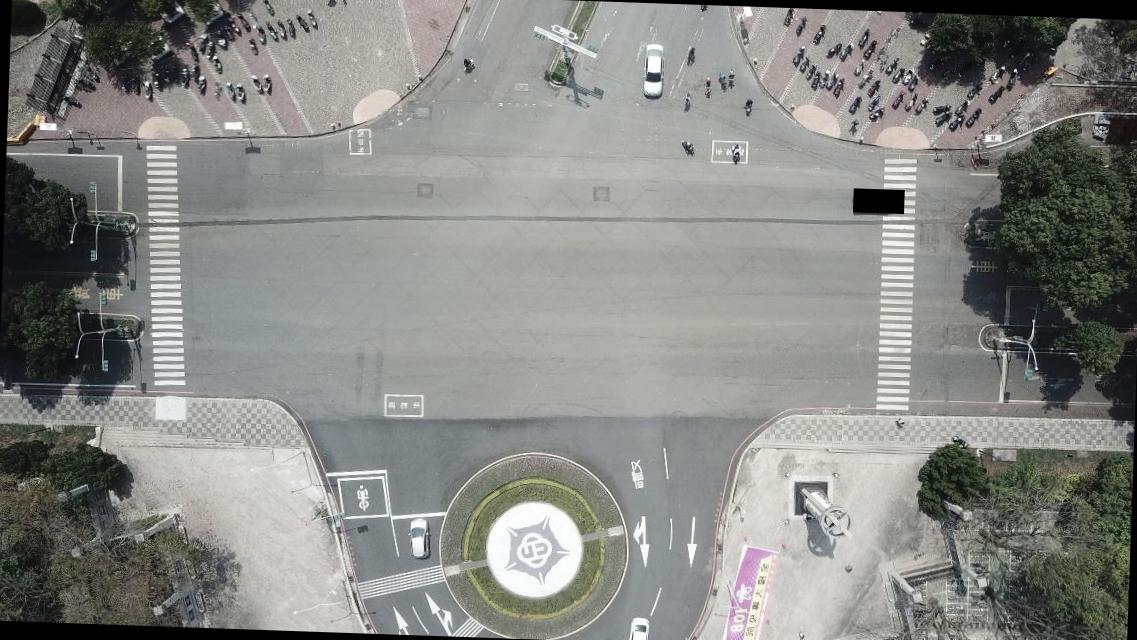vehicle: (640, 41, 666, 100), (406, 516, 432, 560), (626, 615, 651, 639)
